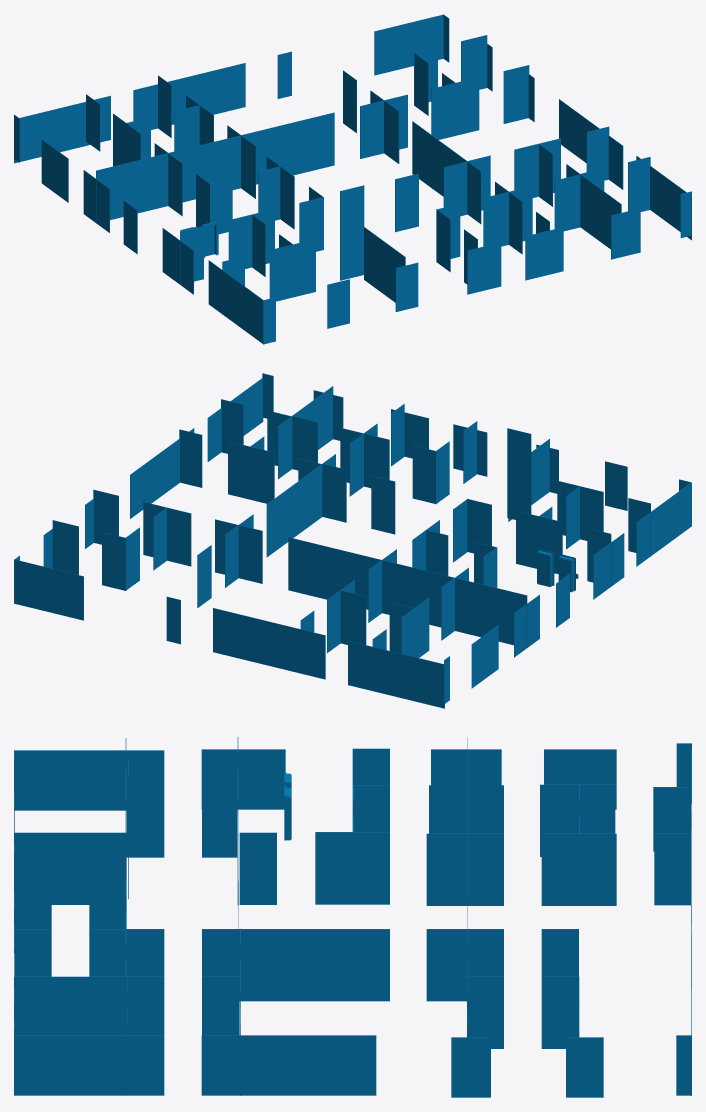
The model's file is Zoll_Base_Version3_Level_4_IfcPlate.dae.
3 views of the same model, one above another, from view 1: azimuth 30°, elevation 25°; view 2: azimuth 150°, elevation 25°; view 3: azimuth 270°, elevation 25° (orthographic). The views are drawn at different scales.
Visible parts, largest first — view 1: 0MXtE0cXz5jwou3FIzw8Zi, 0MXtE0cXz5jwou3FIzw8Yy, 0MXtE0cXz5jwou3FIzw8WC, 0MXtE0cXz5jwou3FIzw8Y0, 0MXtE0cXz5jwou3FIzw8Yu, 0MXtE0cXz5jwou3FIzw9v5, 0MXtE0cXz5jwou3FIzw8Y4, 0MXtE0cXz5jwou3FIzw8Zq, 0MXtE0cXz5jwou3FIzw8YM, 0MXtE0cXz5jwou3FIzw8Y2, 0MXtE0cXz5jwou3FIzw8Y_, 0MXtE0cXz5jwou3FIzw8j_ (+83 smaller); view 2: 0MXtE0cXz5jwou3FIzw8Y0, 0MXtE0cXz5jwou3FIzw8ZS, 0MXtE0cXz5jwou3FIzw8Yu, 0MXtE0cXz5jwou3FIzw8Zq, 0MXtE0cXz5jwou3FIzw8Yg, 0MXtE0cXz5jwou3FIzw8Y4, 0MXtE0cXz5jwou3FIzw8Zc, 0MXtE0cXz5jwou3FIzw8Zs, 0MXtE0cXz5jwou3FIzw8WQ, 0MXtE0cXz5jwou3FIzw8YM, 0MXtE0cXz5jwou3FIzw8Ye, 0MXtE0cXz5jwou3FIzw8Wo (+79 smaller); view 3: 0MXtE0cXz5jwou3FIzw8Zo, 0MXtE0cXz5jwou3FIzw8Zy, 0MXtE0cXz5jwou3FIzw8Z8, 0MXtE0cXz5jwou3FIzw8Z_, 0MXtE0cXz5jwou3FIzw8ZI, 0MXtE0cXz5jwou3FIzw8Yi, 0MXtE0cXz5jwou3FIzw8Zw, 0MXtE0cXz5jwou3FIzw8W8, 0MXtE0cXz5jwou3FIzw8W4, 0MXtE0cXz5jwou3FIzw8Z6, 0MXtE0cXz5jwou3FIzw8ZG, 0MXtE0cXz5jwou3FIzw8ZO (+51 smaller).
Boxes of the visible parts, <box> form: 0MXtE0cXz5jwou3FIzw8Zi: <box>554,174,580,231</box>; 0MXtE0cXz5jwou3FIzw8Yy: <box>503,65,529,123</box>; 0MXtE0cXz5jwou3FIzw8WC: <box>290,239,315,297</box>; 0MXtE0cXz5jwou3FIzw8Y0: <box>301,114,326,173</box>; 0MXtE0cXz5jwou3FIzw8Yu: <box>431,82,456,139</box>; 0MXtE0cXz5jwou3FIzw9v5: <box>340,221,364,280</box>; 0MXtE0cXz5jwou3FIzw8Y4: <box>360,100,385,158</box>; 0MXtE0cXz5jwou3FIzw8Zq: <box>395,173,418,232</box>; 0MXtE0cXz5jwou3FIzw8YM: <box>122,158,147,217</box>; 0MXtE0cXz5jwou3FIzw8Y2: <box>276,120,301,175</box>; 0MXtE0cXz5jwou3FIzw8Y_: <box>457,77,479,135</box>; 0MXtE0cXz5jwou3FIzw8j_: <box>525,230,551,280</box>; 0MXtE0cXz5jwou3FIzw8Y0: <box>295,539,321,597</box>; 0MXtE0cXz5jwou3FIzw8ZS: <box>340,590,366,644</box>; 0MXtE0cXz5jwou3FIzw8Yu: <box>165,507,191,566</box>; 0MXtE0cXz5jwou3FIzw8Zq: <box>371,475,395,534</box>; 0MXtE0cXz5jwou3FIzw8Yg: <box>102,532,126,590</box>; 0MXtE0cXz5jwou3FIzw8Y4: <box>237,524,262,583</box>; 0MXtE0cXz5jwou3FIzw8Zc: <box>412,445,436,503</box>; 0MXtE0cXz5jwou3FIzw8Zs: <box>322,464,346,522</box>; 0MXtE0cXz5jwou3FIzw8WQ: <box>250,447,274,503</box>; 0MXtE0cXz5jwou3FIzw8YM: <box>475,583,501,641</box>; 0MXtE0cXz5jwou3FIzw8Ye: <box>53,520,78,574</box>; 0MXtE0cXz5jwou3FIzw8Wo: <box>179,429,202,487</box>; 0MXtE0cXz5jwou3FIzw8Zo: <box>268,929,309,1001</box>; 0MXtE0cXz5jwou3FIzw8Zy: <box>309,929,349,1001</box>; 0MXtE0cXz5jwou3FIzw8Z8: <box>315,832,355,904</box>; 0MXtE0cXz5jwou3FIzw8Z_: <box>349,929,389,1001</box>; 0MXtE0cXz5jwou3FIzw8ZI: <box>463,833,503,905</box>; 0MXtE0cXz5jwou3FIzw8Yi: <box>576,833,616,905</box>; 0MXtE0cXz5jwou3FIzw8Zw: <box>427,929,466,1001</box>; 0MXtE0cXz5jwou3FIzw8W8: <box>54,832,94,904</box>; 0MXtE0cXz5jwou3FIzw8W4: <box>126,785,164,857</box>; 0MXtE0cXz5jwou3FIzw8Z6: <box>239,832,276,904</box>; 0MXtE0cXz5jwou3FIzw8ZG: <box>426,833,463,905</box>; 0MXtE0cXz5jwou3FIzw8ZO: <box>654,833,690,905</box>.
Bounding box in the file's own units: 30.92 × 30.66 × 6.4.
